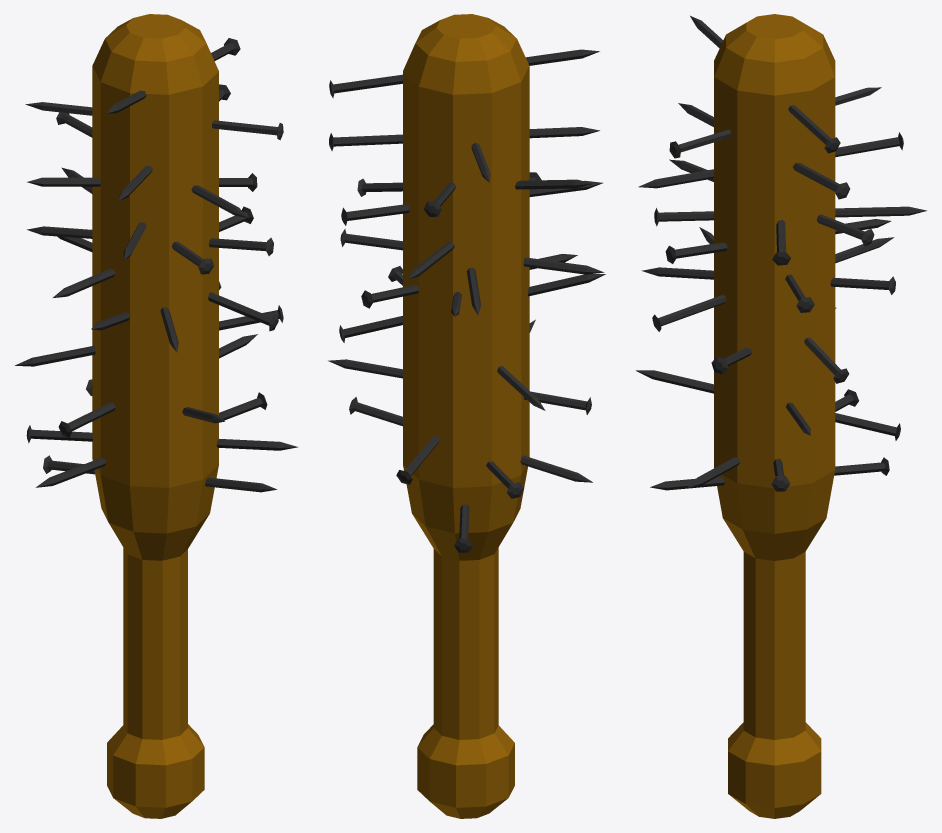
The model's file is Біта.fbx.
3 views of the same model, side by side, from view 1: azimuth 30°, elevation 25°; view 2: azimuth 150°, elevation 25°; view 3: azimuth 270°, elevation 25° (orthographic).
Parts seen in each view (by area): view 1: Біта; view 2: Біта; view 3: Біта.
Part boxes in pixels (x1,y1,x2,y2): Біта: (15, 14, 298, 818); Біта: (328, 14, 605, 818); Біта: (636, 14, 926, 818).
Size of the model in its own units: 49.73 by 149 by 50.69.
